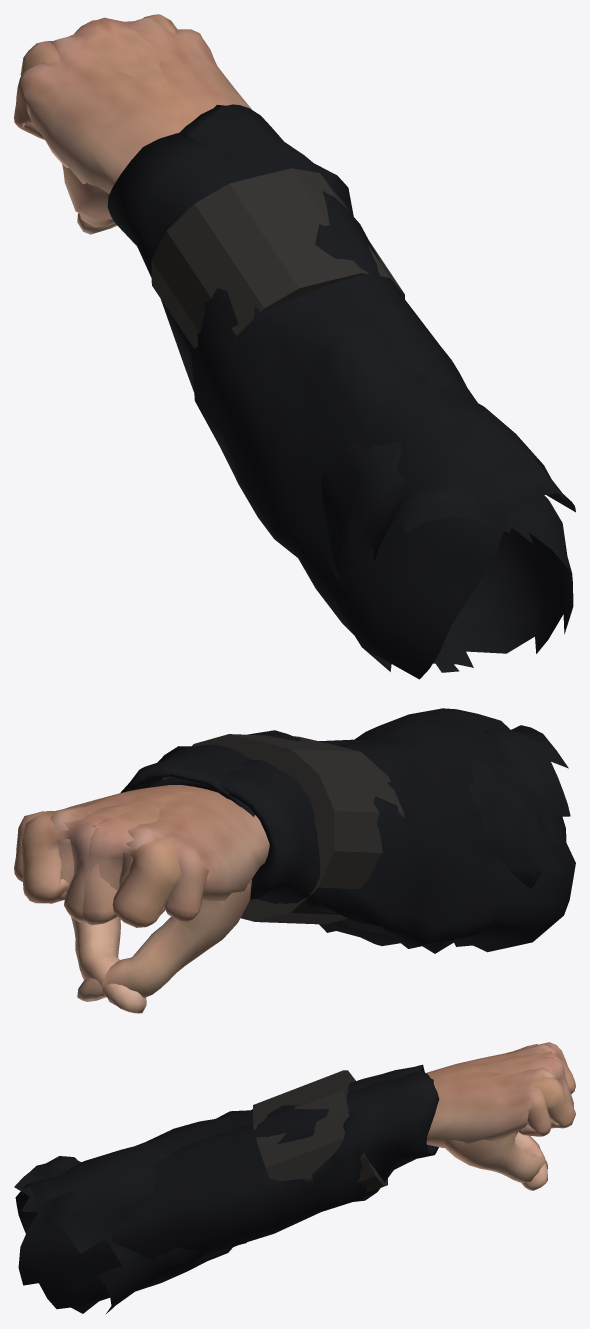
Rendered from kez.glb.
3 views of the same model, one above another, from view 1: azimuth 30°, elevation 25°; view 2: azimuth 150°, elevation 25°; view 3: azimuth 270°, elevation 25° (orthographic). The views are drawn at different scales.
Visible parts, largest first — view 1: kez_bal, kez_jobb; view 2: kez_bal, kez_jobb; view 3: kez_jobb, kez_bal.
Part boxes in pixels (left/top/right/bottom): kez_bal: left=14, top=14, right=575, bottom=679; kez_jobb: left=20, top=17, right=573, bottom=667; kez_bal: left=20, top=708, right=575, bottom=1013; kez_jobb: left=14, top=725, right=570, bottom=1001; kez_jobb: left=14, top=1042, right=575, bottom=1313; kez_bal: left=15, top=1044, right=575, bottom=1313.
Bounding box in the file's own units: 0.102 × 0.1696 × 0.3444.
3 materials, 2 textured.
